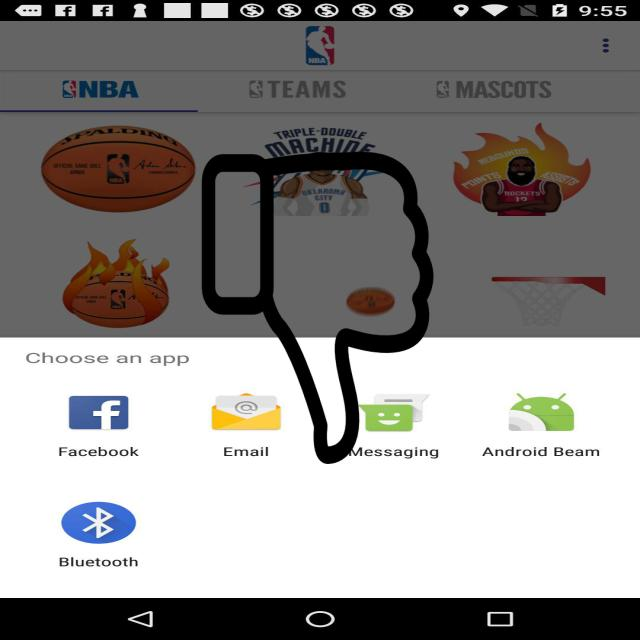obstruction: (198, 152, 436, 464)
